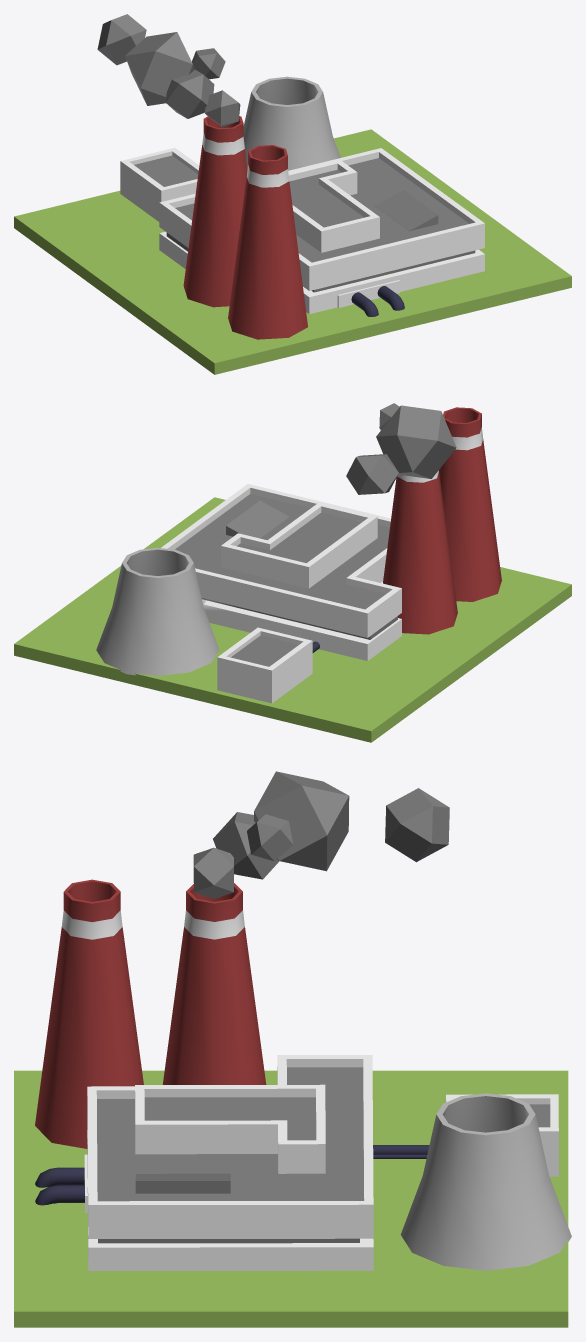
File: power_plant.glb
The picture shows the model from 3 angles, top to bottom: view 1: azimuth 30°, elevation 25°; view 2: azimuth 150°, elevation 25°; view 3: azimuth 270°, elevation 25°; orthographic projection. The views are drawn at different scales.
Visible parts, largest first — view 1: Box005, Box001_07 - Default_0, Tube003_03 - Default_0, Box001_01 - Default_0, Tube004_03 - Default_0, Tube005, Box002, Hedra001, Hedra004, Hedra002, Hedra005, Hedra003 (+3 smaller); view 2: Box005, Box001_07 - Default_0, Tube005, Box001_01 - Default_0, Tube004_03 - Default_0, Tube003_03 - Default_0, Box002, Hedra001, Hedra002; view 3: Box005, Box001_07 - Default_0, Box001_01 - Default_0, Tube005, Tube003_03 - Default_0, Tube004_03 - Default_0, Hedra001, Hedra002, Hedra004, Box002, Hedra005, Hedra003 (+4 smaller).
Part boxes in pixels (x1,y1,x2,y2): Box005: (14,129,571,374); Box001_07 - Default_0: (159,148,484,314); Tube003_03 - Default_0: (228,145,307,339); Box001_01 - Default_0: (166,158,475,292); Tube004_03 - Default_0: (183,116,247,307); Tube005: (243,76,340,170); Box002: (120,147,199,221); Hedra001: (125,32,194,105); Hedra004: (165,69,214,118); Hedra002: (97,14,146,65); Hedra005: (205,90,240,127); Hedra003: (192,48,225,79); Box005: (14,497,571,742); Box001_07 - Default_0: (161,484,401,660); Tube005: (96,547,219,675); Box001_01 - Default_0: (175,494,397,639); Tube004_03 - Default_0: (383,471,457,634); Tube003_03 - Default_0: (439,407,501,601); Box002: (217,627,312,703); Hedra001: (376,405,456,478); Hedra002: (346,454,398,494); Box005: (14,1070,568,1327); Box001_07 - Default_0: (87,1055,373,1270); Box001_01 - Default_0: (97,1067,363,1243); Tube005: (400,1093,571,1270); Tube003_03 - Default_0: (35,879,143,1148); Tube004_03 - Default_0: (162,883,266,1084); Hedra001: (254,771,349,871); Hedra002: (385,788,449,862); Hedra004: (213,812,279,879); Box002: (446,1094,558,1176); Hedra005: (193,847,233,898); Hedra003: (247,814,293,861).
Bounding box in the file's own units: 3.14 × 2.1 × 3.07.
